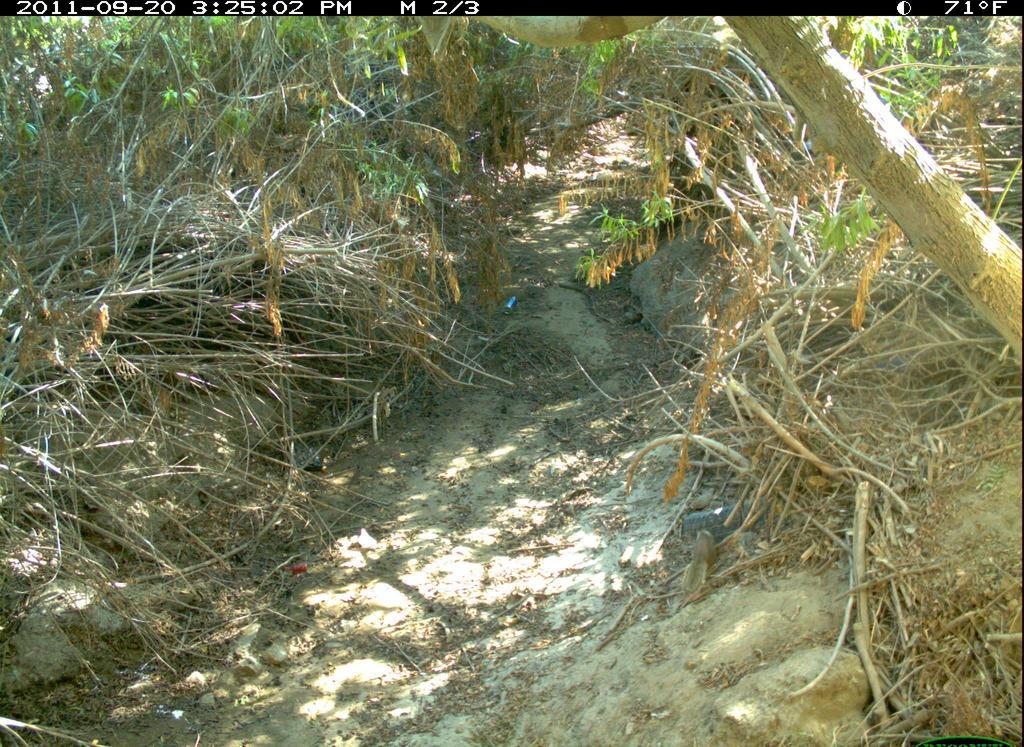squirrel: (675, 521, 728, 605)
